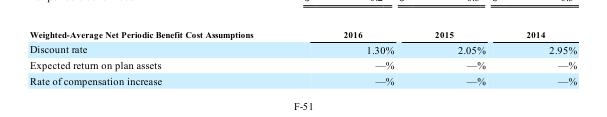table: (28, 29, 576, 85)
table column: (28, 29, 297, 85), (297, 29, 413, 85), (413, 29, 505, 85), (505, 29, 576, 85)
table column header: (28, 29, 576, 41)
table row: (28, 41, 576, 57), (28, 57, 576, 72), (28, 72, 576, 85), (28, 29, 576, 41)
